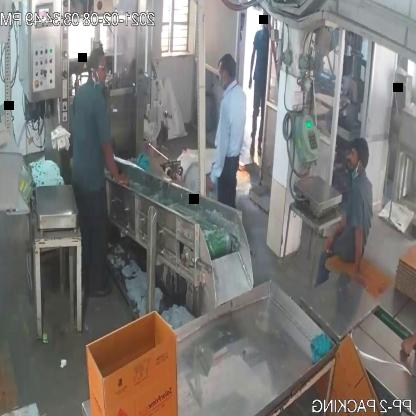no_glove: (204, 98, 230, 198), (101, 127, 132, 191), (347, 203, 364, 289), (324, 206, 349, 258), (396, 322, 416, 369), (246, 31, 258, 90)
